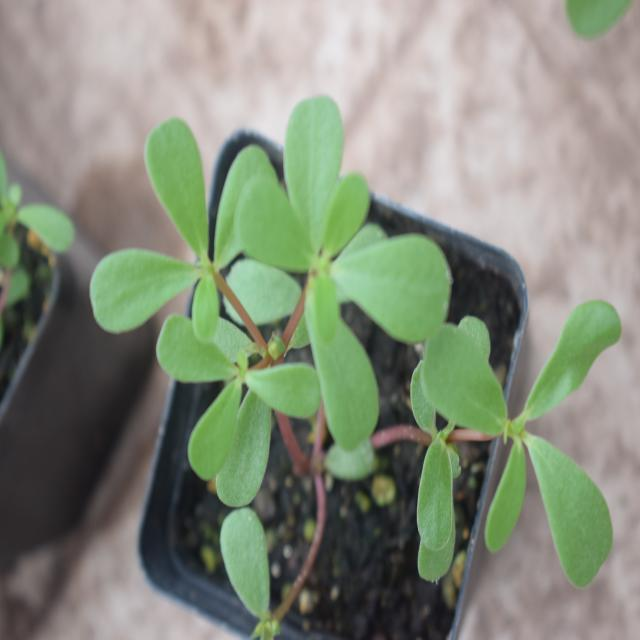purslane: (93, 100, 623, 586)
